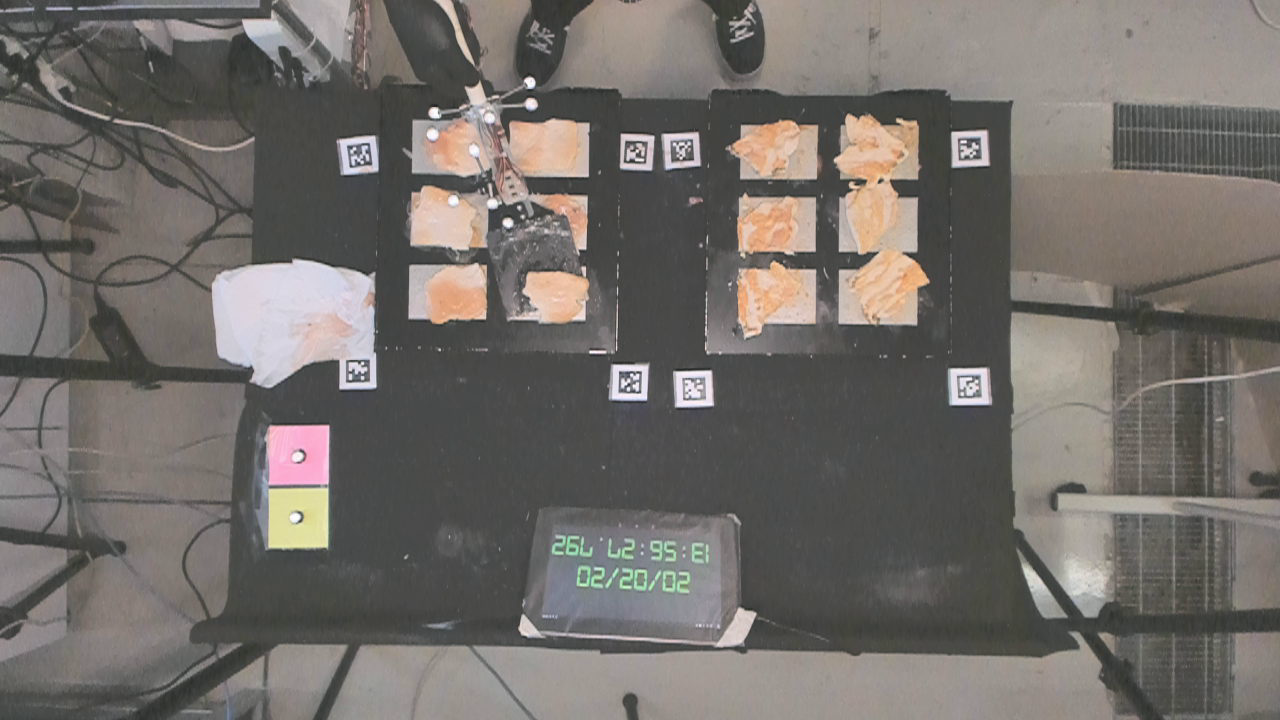chicken: (853, 250, 933, 323), (734, 260, 805, 336), (407, 182, 482, 253), (837, 111, 911, 180), (423, 261, 493, 328), (730, 115, 803, 179), (737, 191, 801, 260), (503, 117, 581, 173), (523, 262, 592, 325), (849, 181, 903, 254), (422, 118, 491, 174)
marker: (268, 424, 329, 485)
